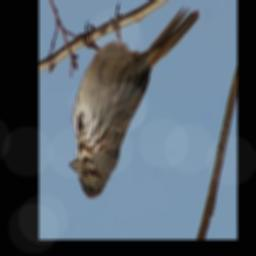Sparrow: (68, 3, 201, 201)
